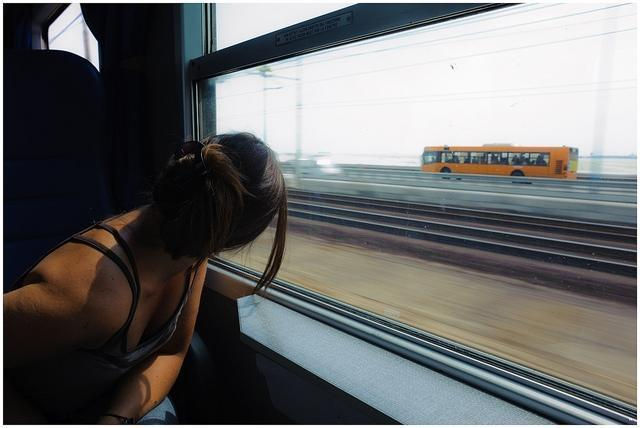bus: (420, 144, 584, 184)
